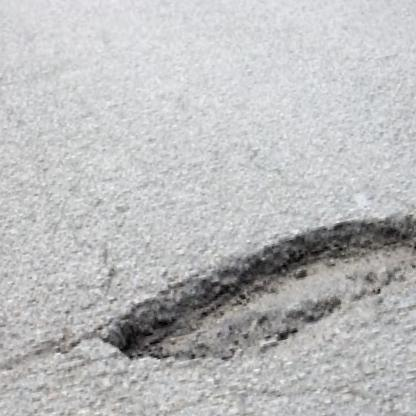pothole: (85, 194, 416, 386)
